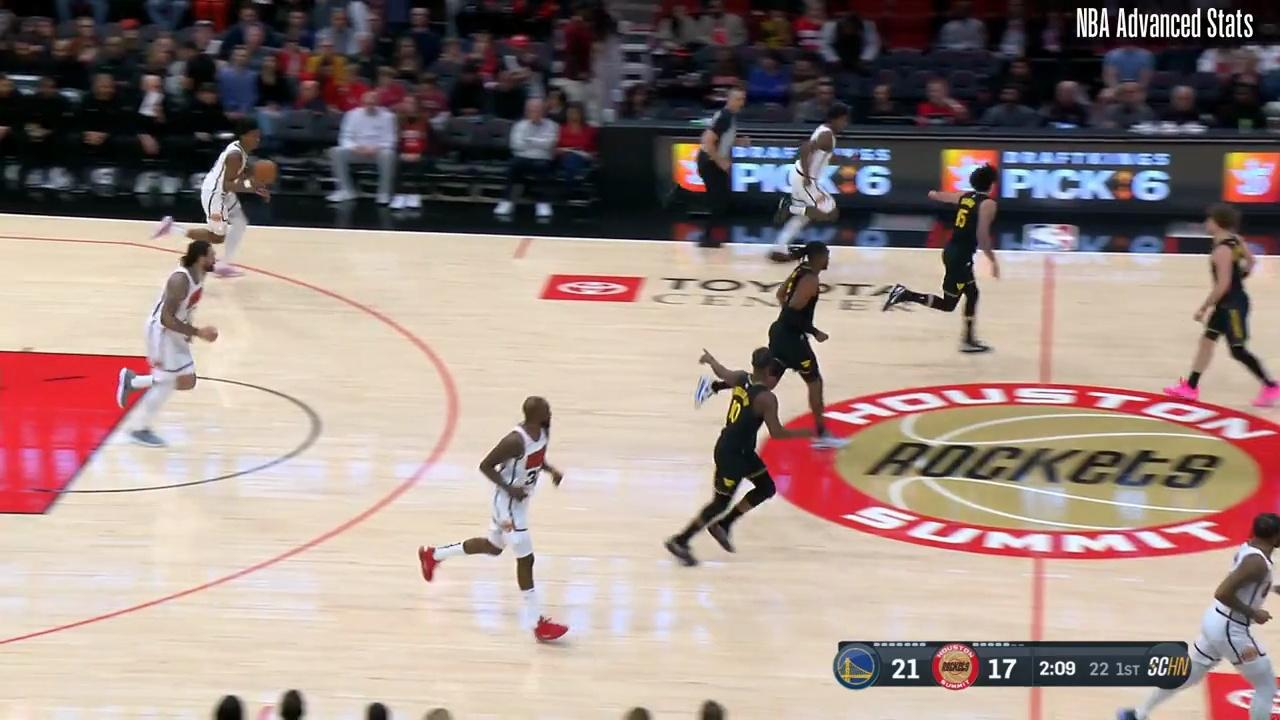basketball: (253, 156, 278, 184)
